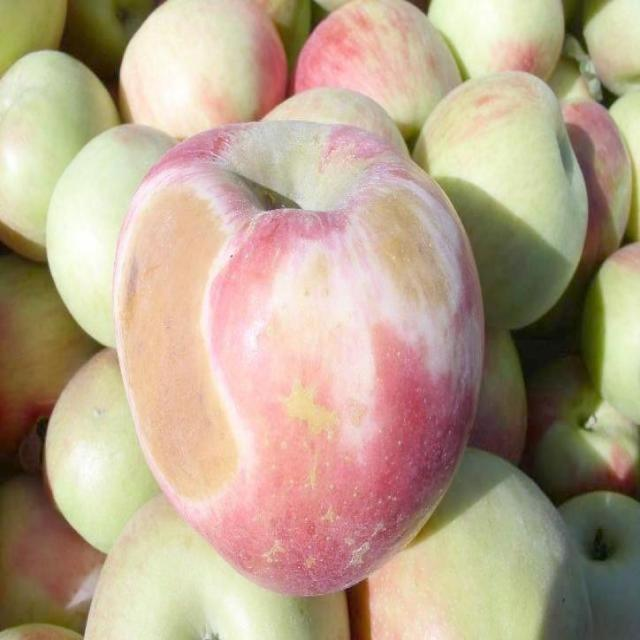Sunscald Fruit: (67, 111, 172, 346)
